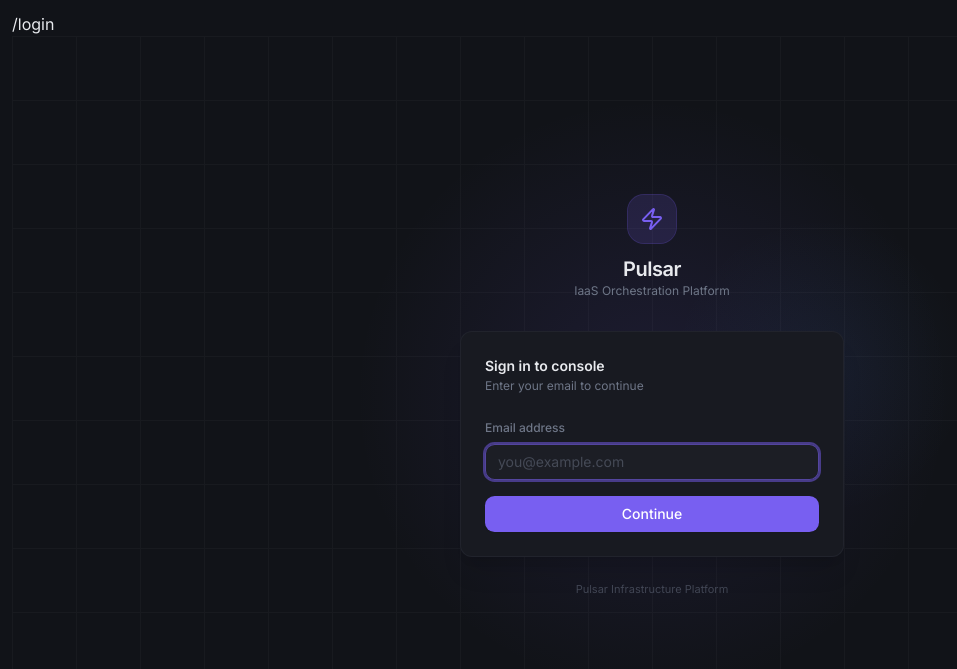
Test: LoginPage › can go back and use a different email
The image size is (957, 669).
Type "ada@example.test" into the field labelled "Email address".
click(652, 462); type("ada@example.test")  # box [485,444,819,480]
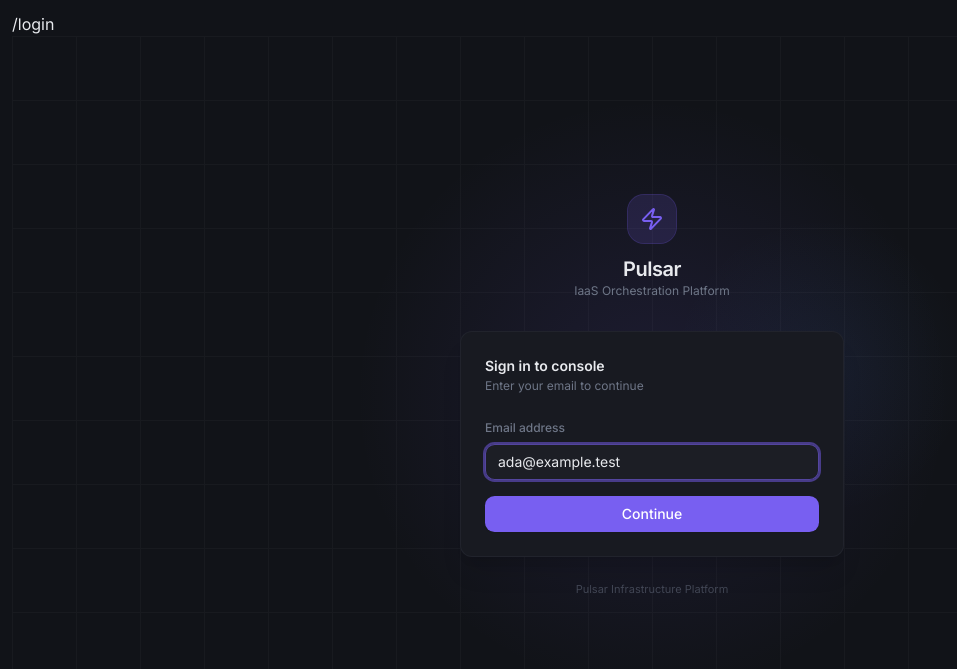
Click the button "Continue".
click(652, 514)  # box [485,496,819,532]
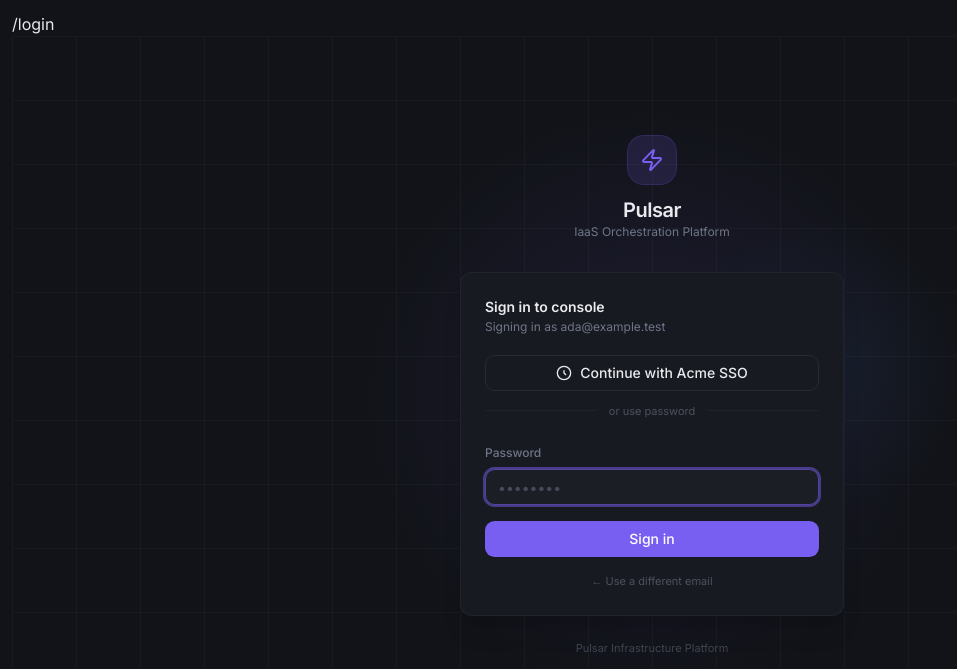
Now the password field labelled "Password" is shown, box [485,469,819,505]
Click the button "← Use a different email".
click(652, 581)  # box [485,573,819,590]
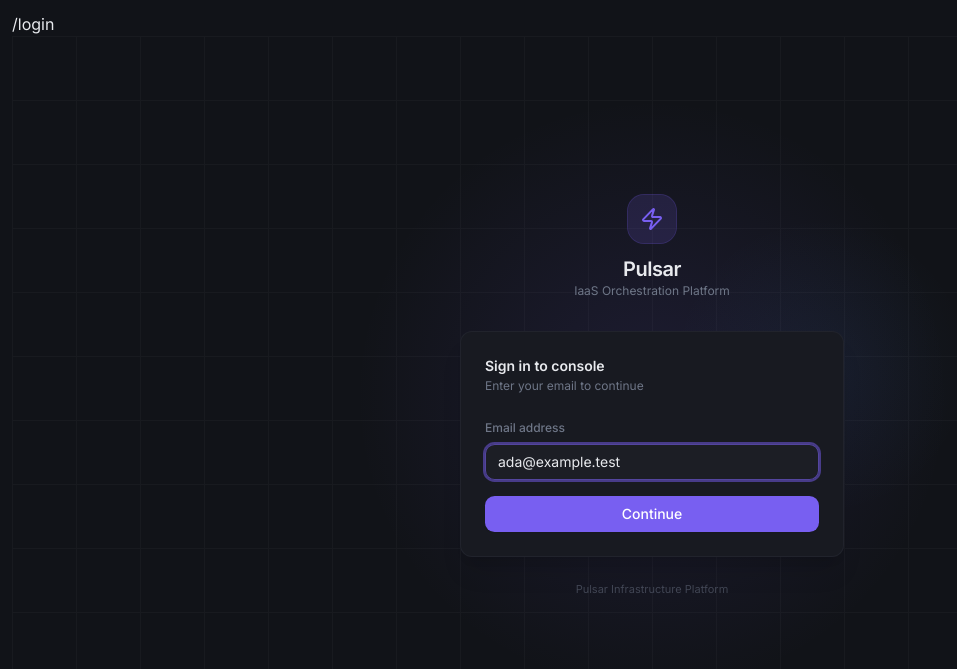
Now the field labelled "Email address" is shown, box [485,444,819,480]
Now the button "Continue with" is gone
